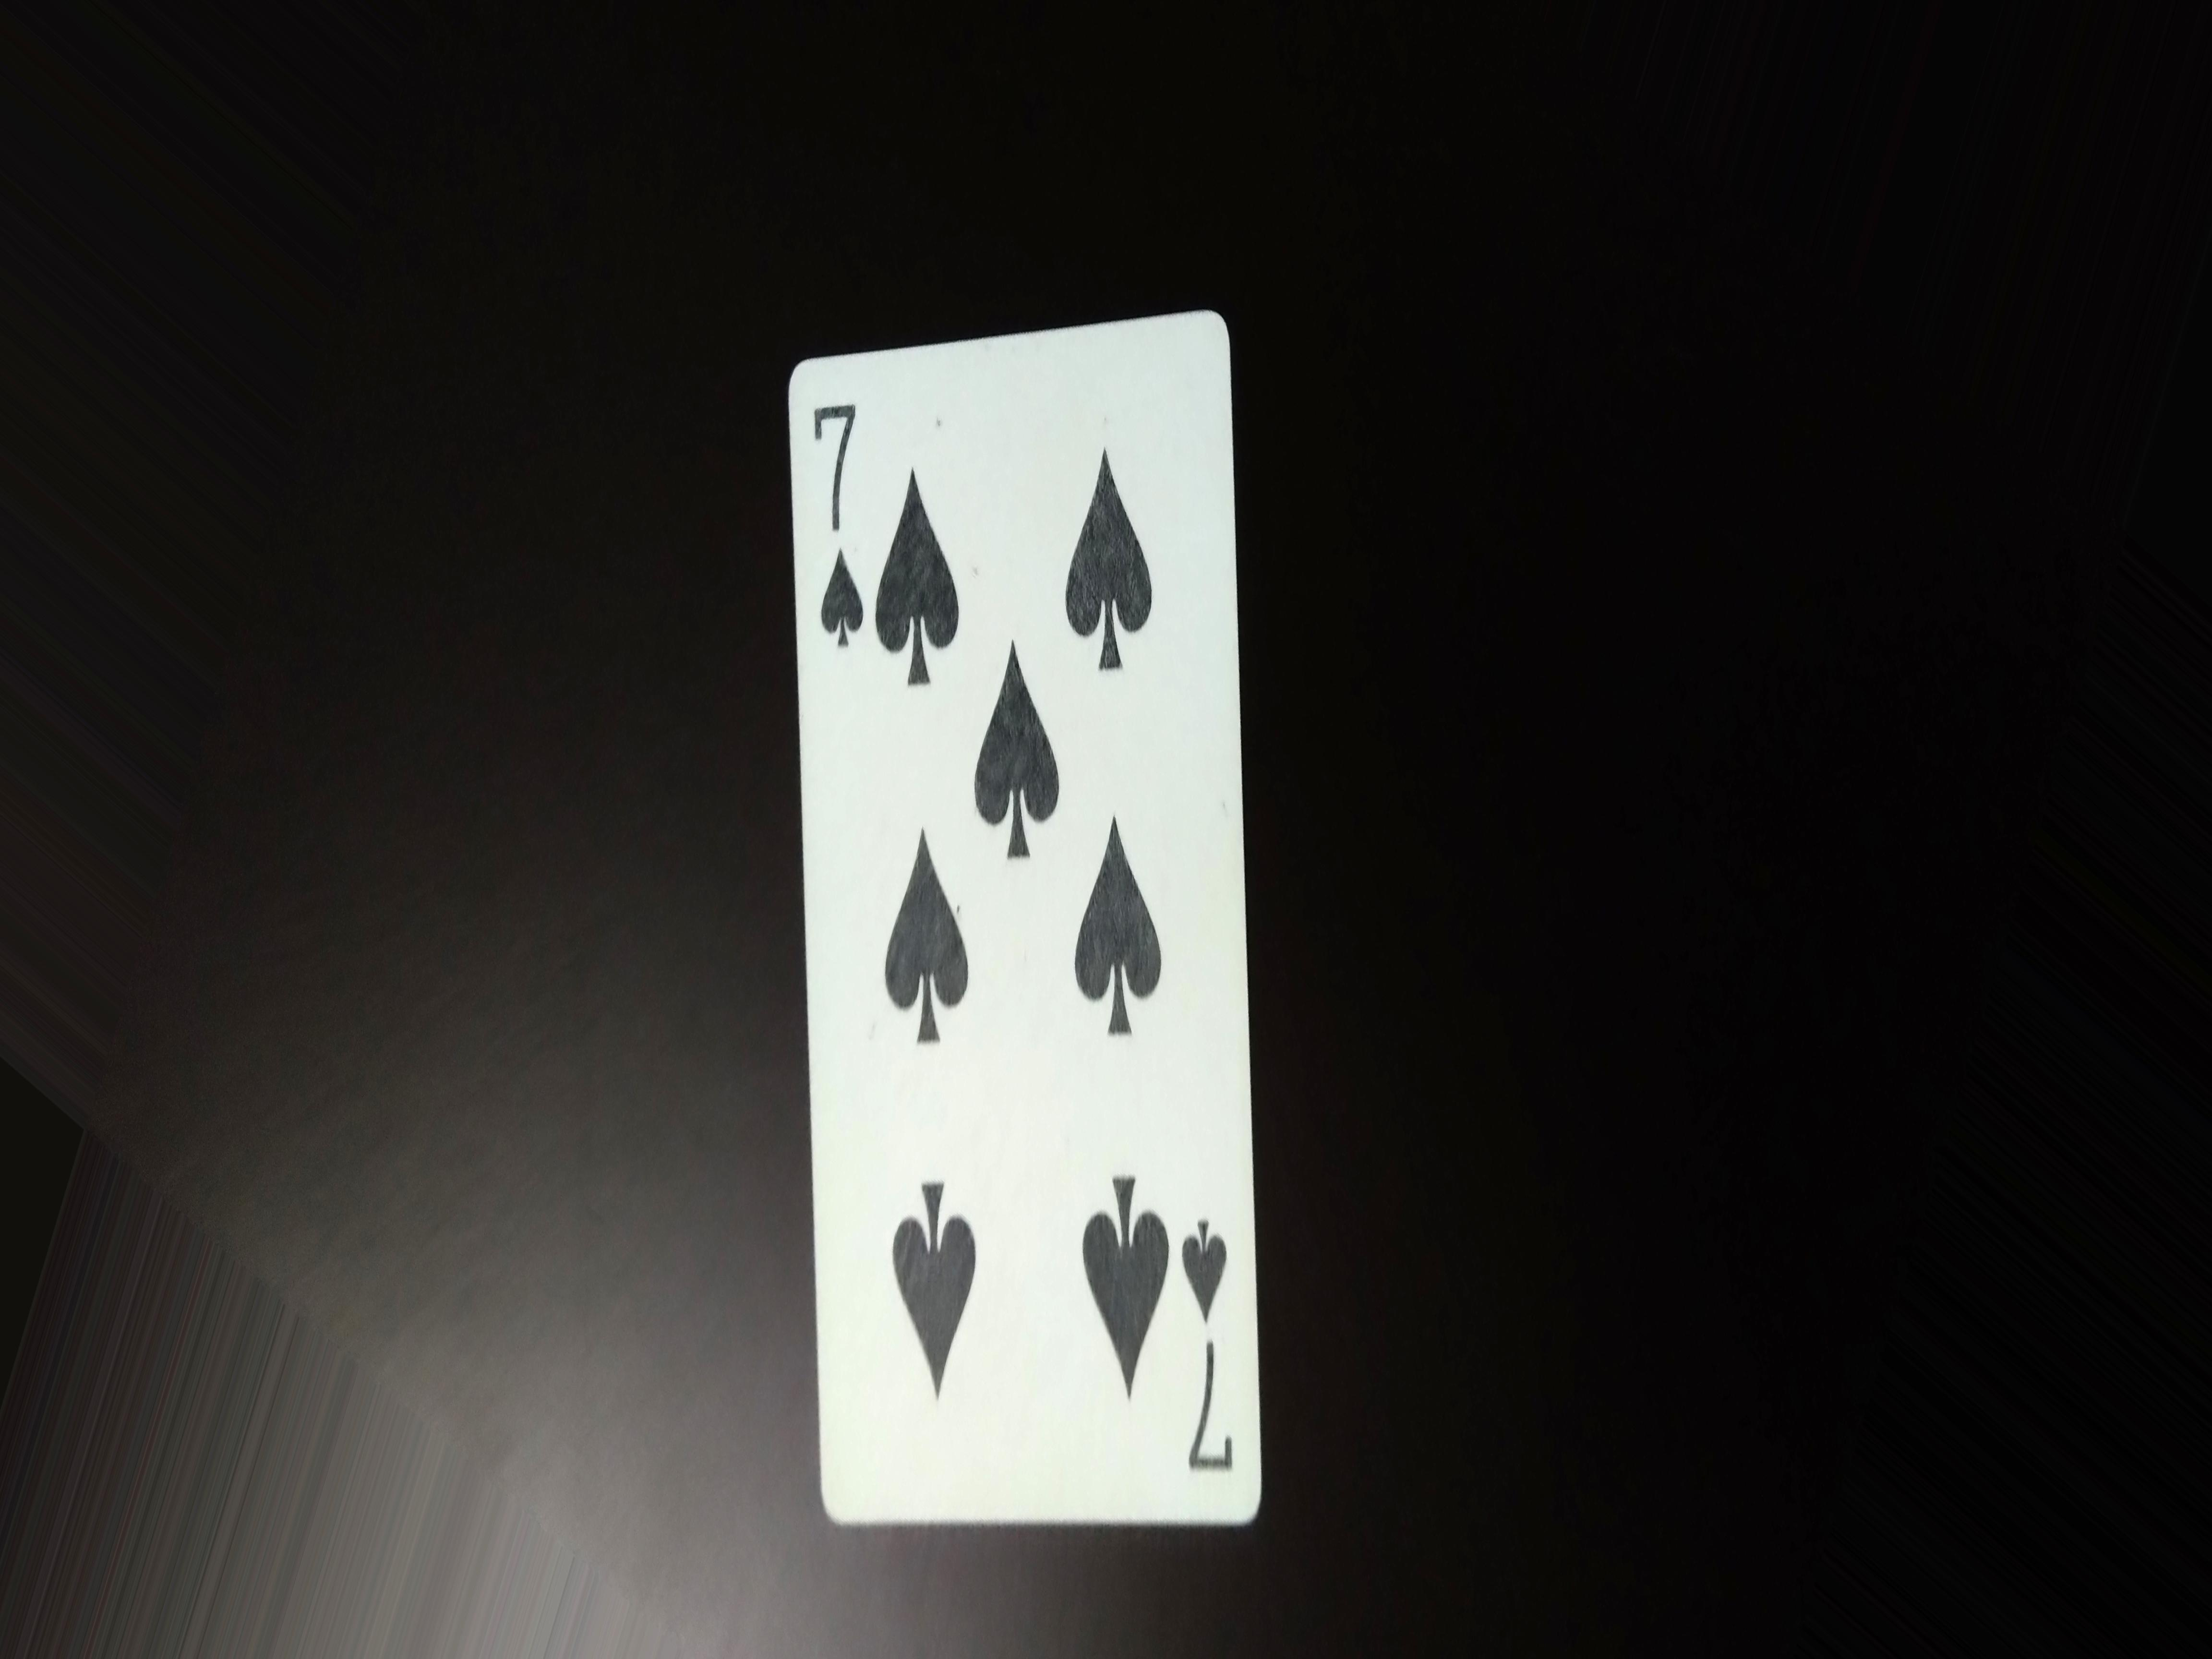7S: (812, 380, 871, 662)
